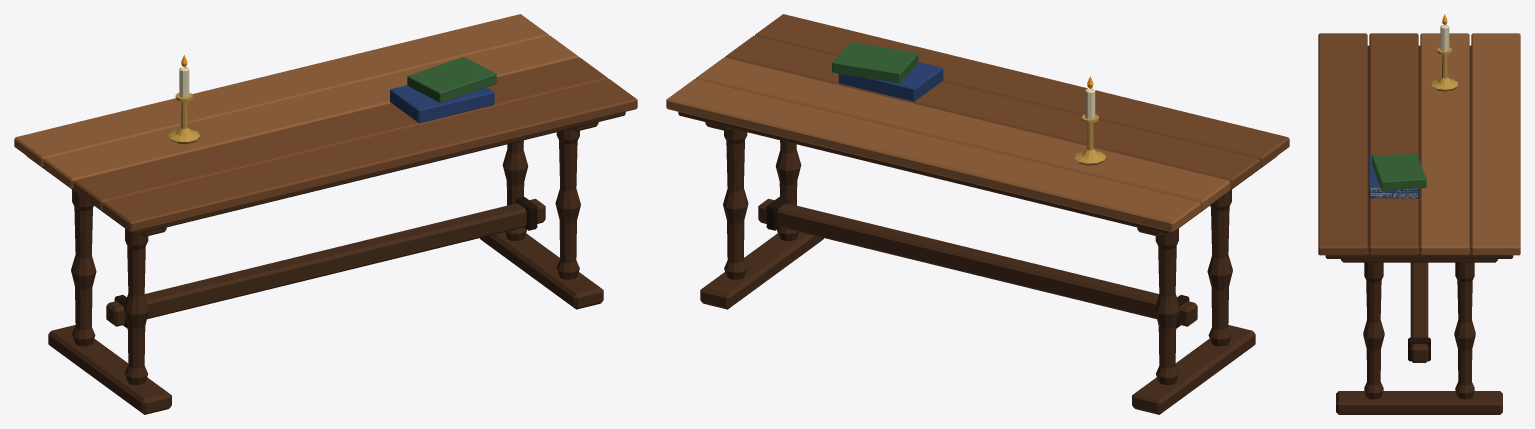
Rendered from table.obj.
3 renders of one model, left to right at view 1: azimuth 30°, elevation 25°; view 2: azimuth 150°, elevation 25°; view 3: azimuth 270°, elevation 25°, orthographic. The views are drawn at different scales.
Parts seen in each view (by area): view 1: box, box.003, box.001, box.002, box.009, box.005, box.007, lathe, lathe.002, lathe.001, box.014, box.004 (+3 smaller); view 2: box.003, box.002, box, box.001, box.009, box.005, box.007, lathe.001, lathe.003, lathe, box.014, box.004 (+3 smaller); view 3: box, box.003, box.002, box.001, box.007, box.004, lathe.002, lathe.003, box.009, box.014, box.012, box.008 (+4 smaller).
Part boxes in pixels (box(x1,y1,x2,y2)): box: box(103, 79, 637, 232); box.003: box(14, 14, 548, 167); box.001: box(73, 57, 608, 210); box.002: box(43, 35, 578, 188); box.009: box(106, 198, 545, 326); box.005: box(48, 325, 171, 414); box.007: box(480, 232, 603, 309); lathe: box(123, 228, 149, 384); lathe.002: box(555, 128, 580, 279); lathe.001: box(71, 190, 96, 346); box.014: box(407, 57, 496, 102); box.004: box(27, 112, 625, 235); box.003: box(666, 79, 1200, 232); box.002: box(695, 57, 1230, 210); box: box(755, 14, 1289, 167); box.001: box(725, 35, 1260, 188); box.009: box(758, 198, 1197, 326); box.005: box(1132, 325, 1255, 414); box.007: box(700, 232, 823, 309); lathe.001: box(1154, 228, 1180, 384); lathe.003: box(723, 128, 748, 279); lathe: box(1207, 190, 1232, 346); box.014: box(832, 42, 918, 83); box.004: box(678, 112, 1276, 235); box: box(1318, 33, 1367, 255); box.003: box(1471, 33, 1520, 255); box.002: box(1420, 33, 1469, 255); box.001: box(1369, 33, 1418, 255); box.007: box(1336, 391, 1502, 414); box.004: box(1325, 45, 1513, 258); lathe.002: box(1363, 262, 1384, 399); lathe.003: box(1454, 262, 1475, 399); box.009: box(1410, 262, 1428, 362); box.014: box(1372, 153, 1426, 190); box.012: box(1369, 155, 1419, 198); box.008: box(1341, 259, 1497, 262).
Bounding box in the file's own units: 2 × 1.1 × 0.8.
